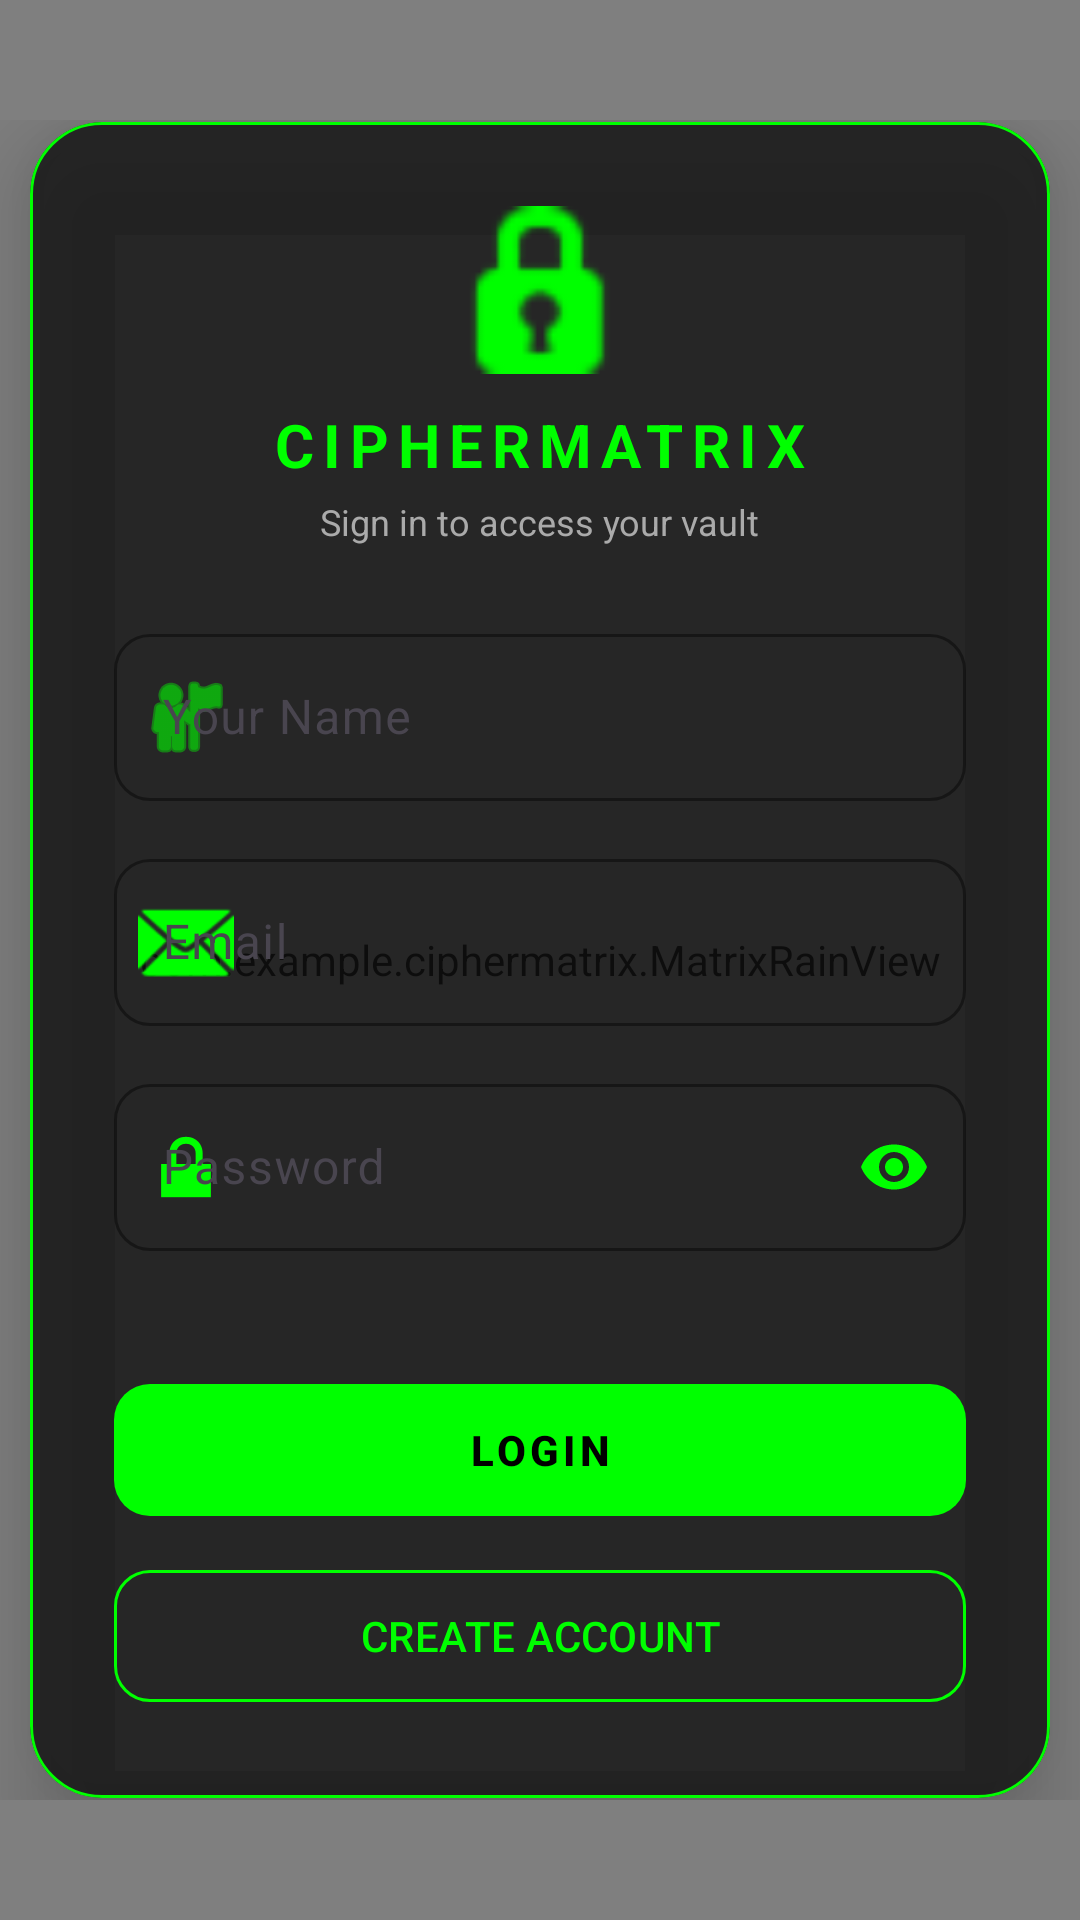

Icons on this 1080×1920 Android screen, each with the point to tap as point (x, y):
Secure icon: point (539, 290)
